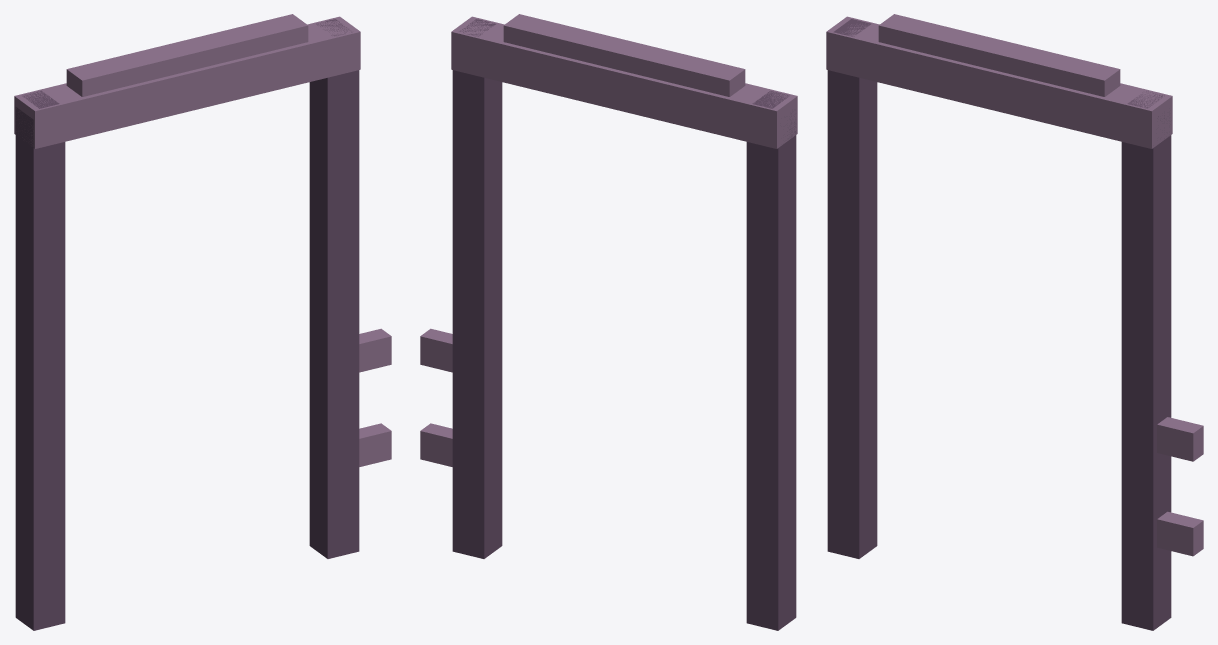
The model's file is TW_WOOD_GATE_FRAME_B_LOD0.glb.
3 views of the same model, side by side, from view 1: azimuth 30°, elevation 25°; view 2: azimuth 150°, elevation 25°; view 3: azimuth 330°, elevation 25° (orthographic).
Visible parts, largest first — view 1: TW_WOOD_GATE_FRAME_B_LOD0; view 2: TW_WOOD_GATE_FRAME_B_LOD0; view 3: TW_WOOD_GATE_FRAME_B_LOD0.
Part boxes in pixels (<box>): TW_WOOD_GATE_FRAME_B_LOD0: <box>14,14,391,630</box>; TW_WOOD_GATE_FRAME_B_LOD0: <box>420,14,797,630</box>; TW_WOOD_GATE_FRAME_B_LOD0: <box>826,14,1203,630</box>.
Size of the model in its own units: 1.6 by 2.27 by 0.16.
Materials: 1 (1 with a texture image).
